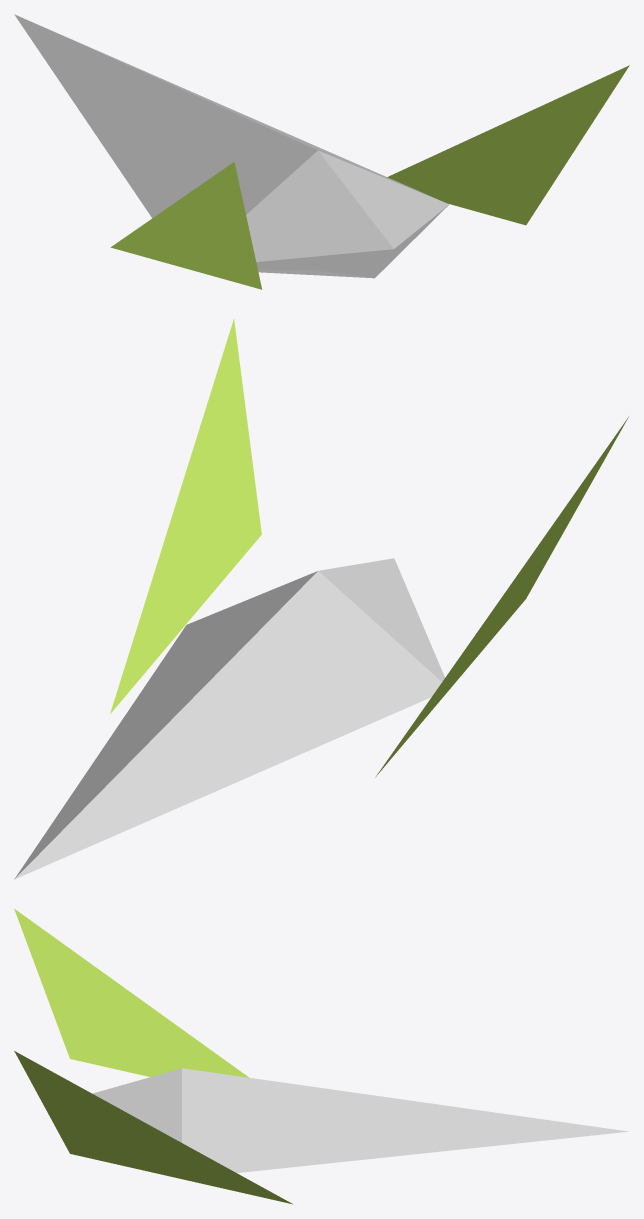
The model's file is player.fbx.
3 renders of one model, top to bottom at view 1: azimuth 30°, elevation 25°; view 2: azimuth 150°, elevation 25°; view 3: azimuth 270°, elevation 25°, orthographic. The views are drawn at different scales.
Visible parts, largest first — view 1: Arwing_SNES_Vert.001; view 2: Arwing_SNES_Vert.001; view 3: Arwing_SNES_Vert.001.
Part boxes in pixels (bbox=[...]): Arwing_SNES_Vert.001: bbox=[14, 14, 629, 289]; Arwing_SNES_Vert.001: bbox=[14, 319, 628, 879]; Arwing_SNES_Vert.001: bbox=[14, 908, 628, 1204].
Bounding box in the file's own units: 601 × 350 × 1100.
